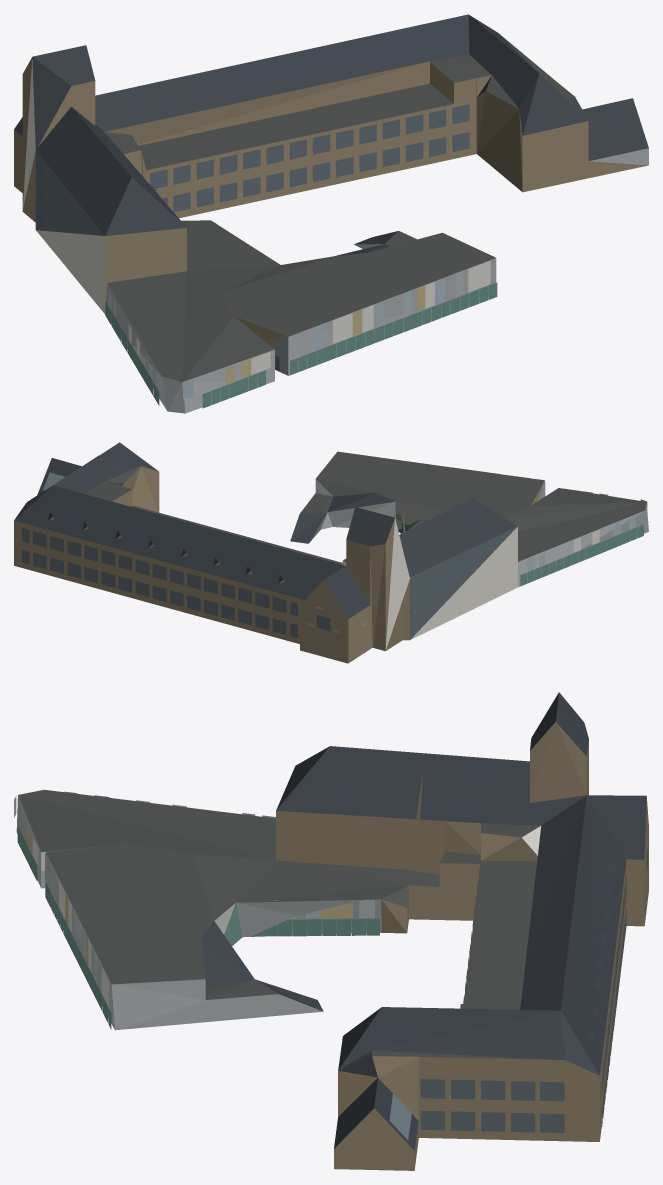
Rendered from technische-school-meeuwenlaan.lod2.glb.
3 views of the same model, one above another, from view 1: azimuth 30°, elevation 25°; view 2: azimuth 150°, elevation 25°; view 3: azimuth 270°, elevation 25° (orthographic). The views are drawn at different scales.
Visible parts, largest first — view 1: lod2; view 2: lod2; view 3: lod2.
Part boxes in pixels (bbox=[...]): lod2: bbox=[14, 14, 648, 413]; lod2: bbox=[14, 442, 648, 663]; lod2: bbox=[14, 692, 648, 1170].
Size of the model in its own units: 109 by 27.48 by 84.48.
